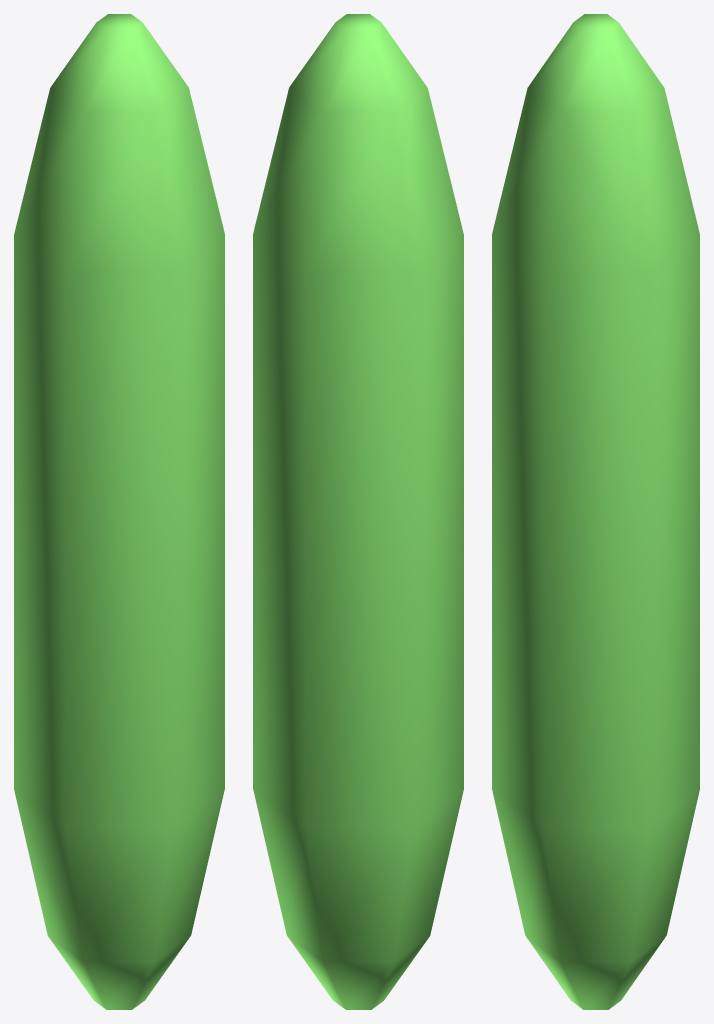
The model's file is peeledCucumber.obj.
3 views of the same model, side by side, from view 1: azimuth 30°, elevation 25°; view 2: azimuth 150°, elevation 25°; view 3: azimuth 270°, elevation 25° (orthographic).
Visible parts, largest first — view 1: avocado; view 2: avocado; view 3: avocado.
Part boxes in pixels (left/top/right/bottom): avocado: left=14, top=14, right=224, bottom=1009; avocado: left=253, top=14, right=463, bottom=1009; avocado: left=492, top=14, right=699, bottom=1009.
Bounding box in the file's own units: 0.0798 × 0.4697 × 0.0905.
